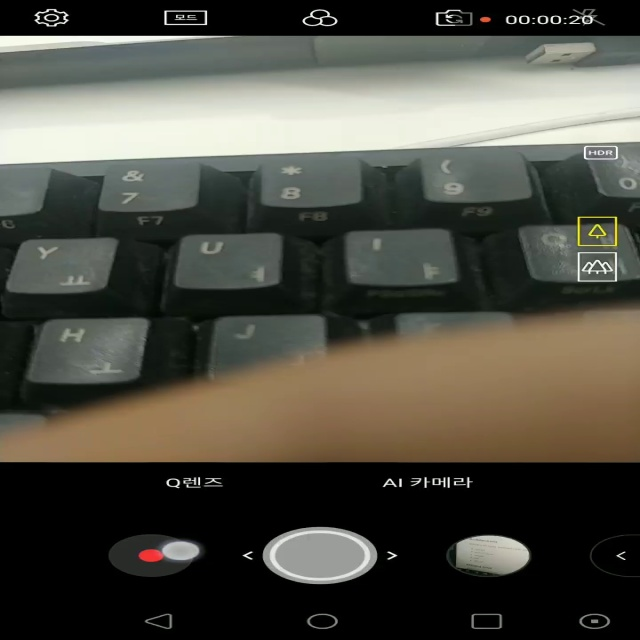Cursor: (160, 540, 204, 563)
